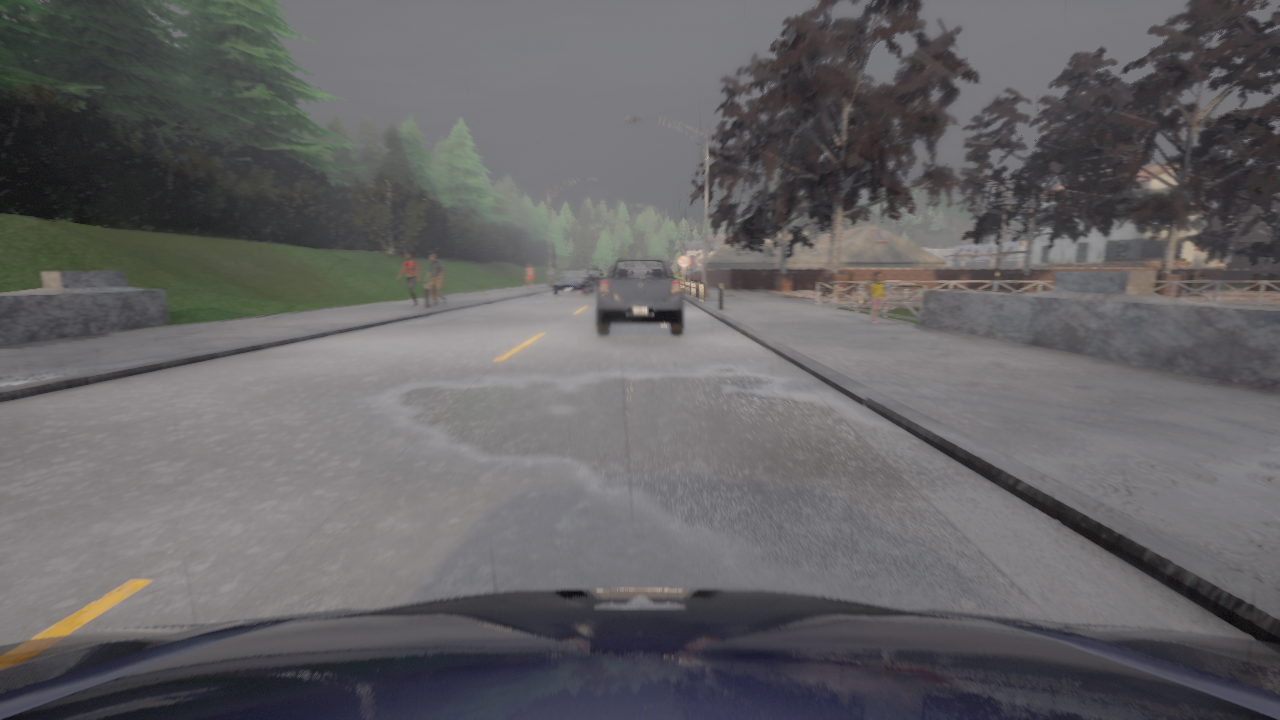cyclist: (0, 588, 1279, 719), (596, 258, 683, 335), (552, 269, 594, 294), (584, 268, 603, 288), (679, 271, 701, 282)
pedestrian: (397, 252, 419, 306), (425, 253, 447, 305), (869, 272, 884, 324), (526, 264, 533, 288), (547, 265, 549, 285)
